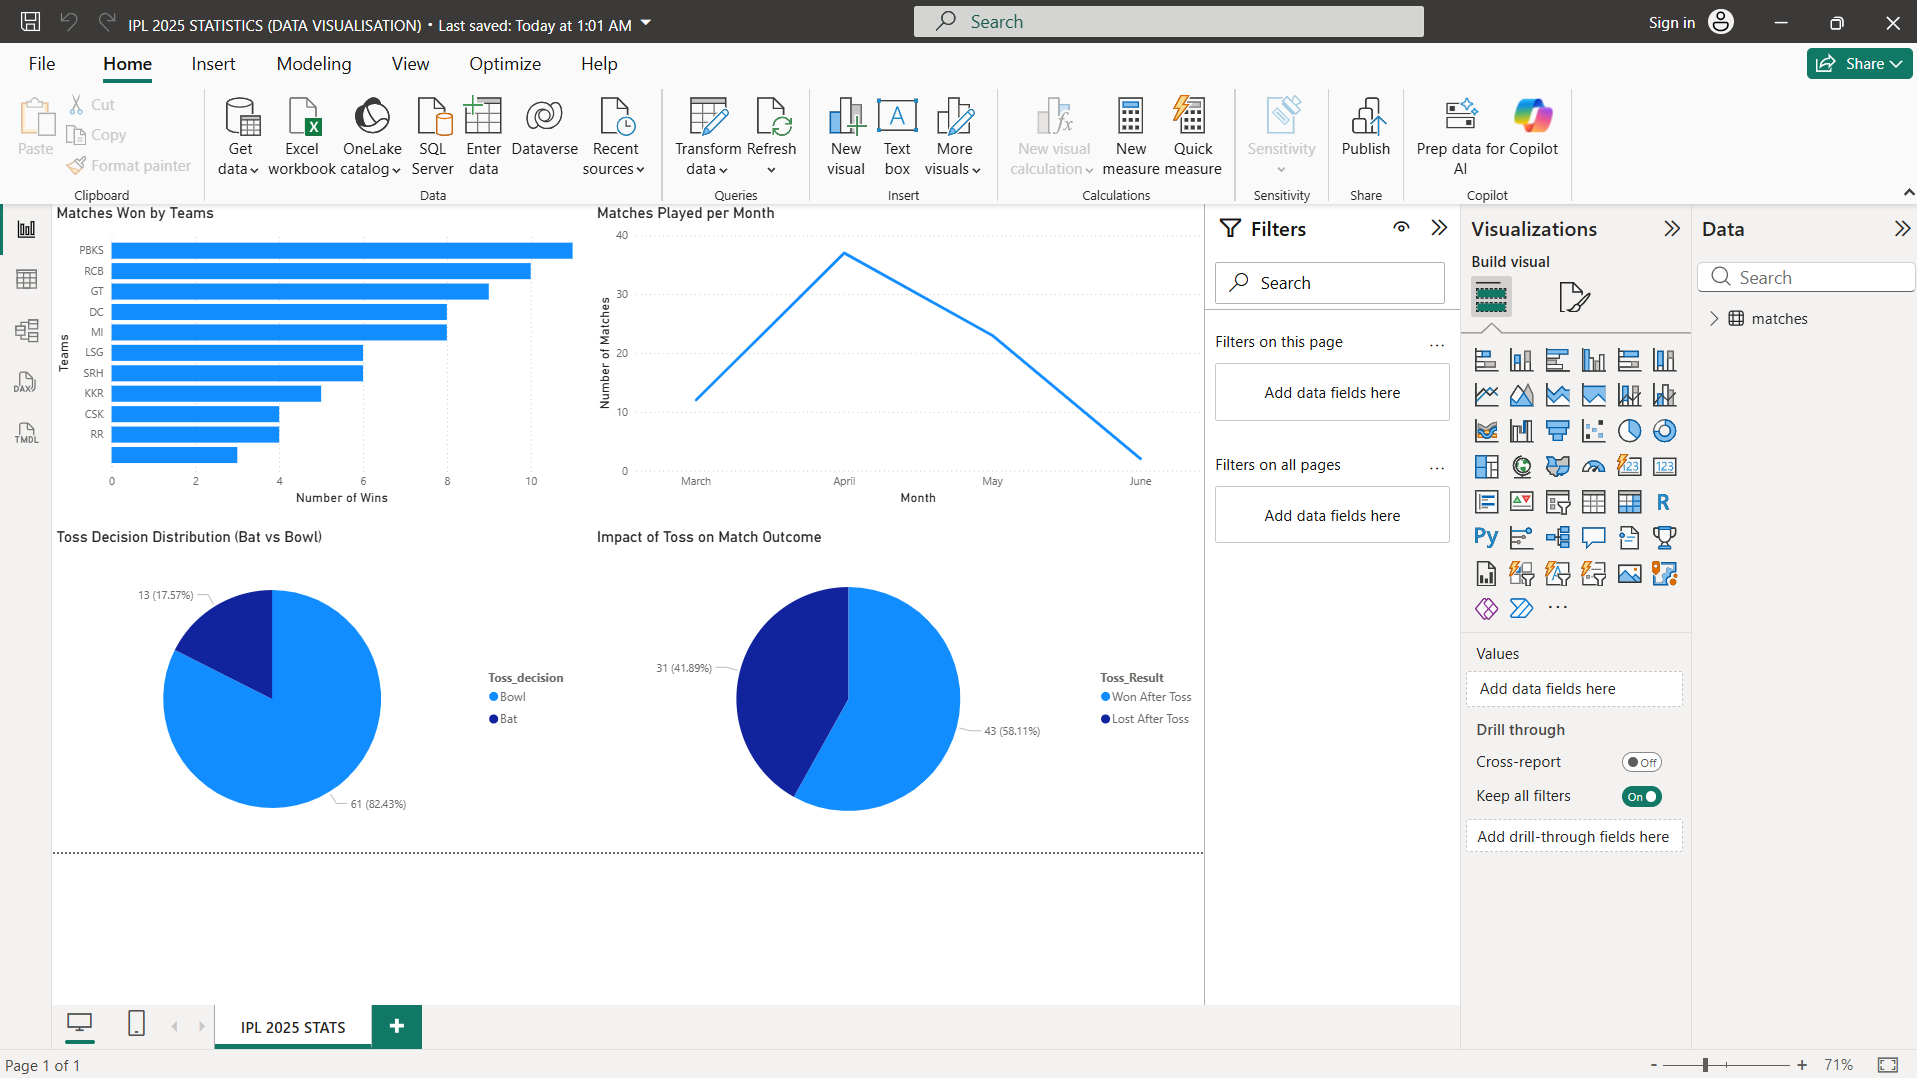

What the dashboard file says about the page in this screenshot:
{"tool":"powerbi","page":{"name":"IPL 2025 STATS","canvas":[1280,720],"ordinal":0},"visuals":[{"type":"clusteredBarChart","title":"Matches Won by Teams","fields":{"Category":["matches.match_winner"],"Y":["CountNonNull(matches.match_winner)"]},"box":[0,0,590.8,340],"z":0},{"type":"pieChart","title":"Toss Decision Distribution (Bat vs Bowl)","fields":{"Category":["matches.toss_decision"],"Y":["CountNonNull(matches.toss_decision)"]},"box":[0,359.8,590.8,359.8],"z":1000},{"type":"lineChart","title":"Matches Played per Month","fields":{"Y":["Count(matches.match_id)"],"Category":["matches.date.Variation.Date Hierarchy.Month"]},"box":[600.7,0,680,340],"z":2000},{"type":"pieChart","title":"Impact of Toss on Match Outcome","fields":{"Category":["matches.Toss_Result"],"Y":["CountNonNull(matches.Toss_Result)"]},"box":[600.7,359.8,680,359.8],"z":3000}]}

Visuals, with their boxes on the page's 1280x720 design canvas (x1, y1, x2, y2). These are canvas units, not pixel positions in the 1917x1078 screenshot, which may show the page scaled, cropped or inside an application window:
"Matches Won by Teams" clusteredBarChart: x1=0, y1=0, x2=591, y2=340
"Toss Decision Distribution (Bat vs Bowl)" pieChart: x1=0, y1=360, x2=591, y2=720
"Matches Played per Month" lineChart: x1=601, y1=0, x2=1281, y2=340
"Impact of Toss on Match Outcome" pieChart: x1=601, y1=360, x2=1281, y2=720
